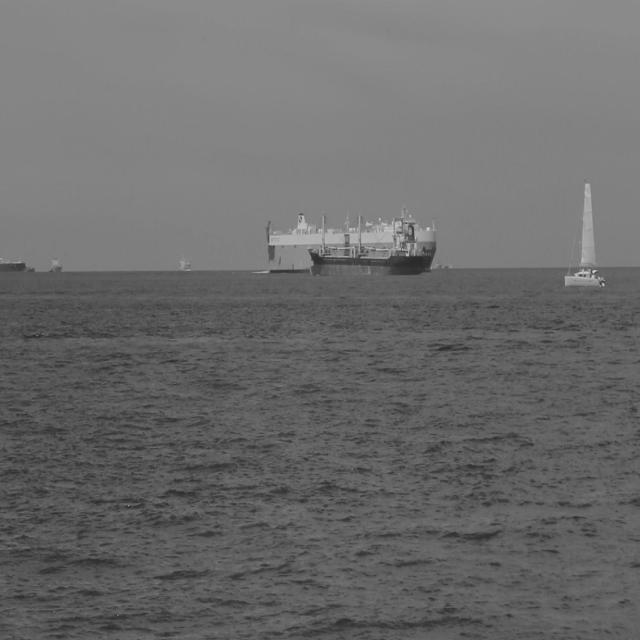ship: (264, 210, 437, 276), (308, 203, 434, 278), (563, 176, 606, 288), (0, 256, 27, 274), (47, 254, 63, 274), (178, 253, 192, 273), (24, 264, 36, 274)
